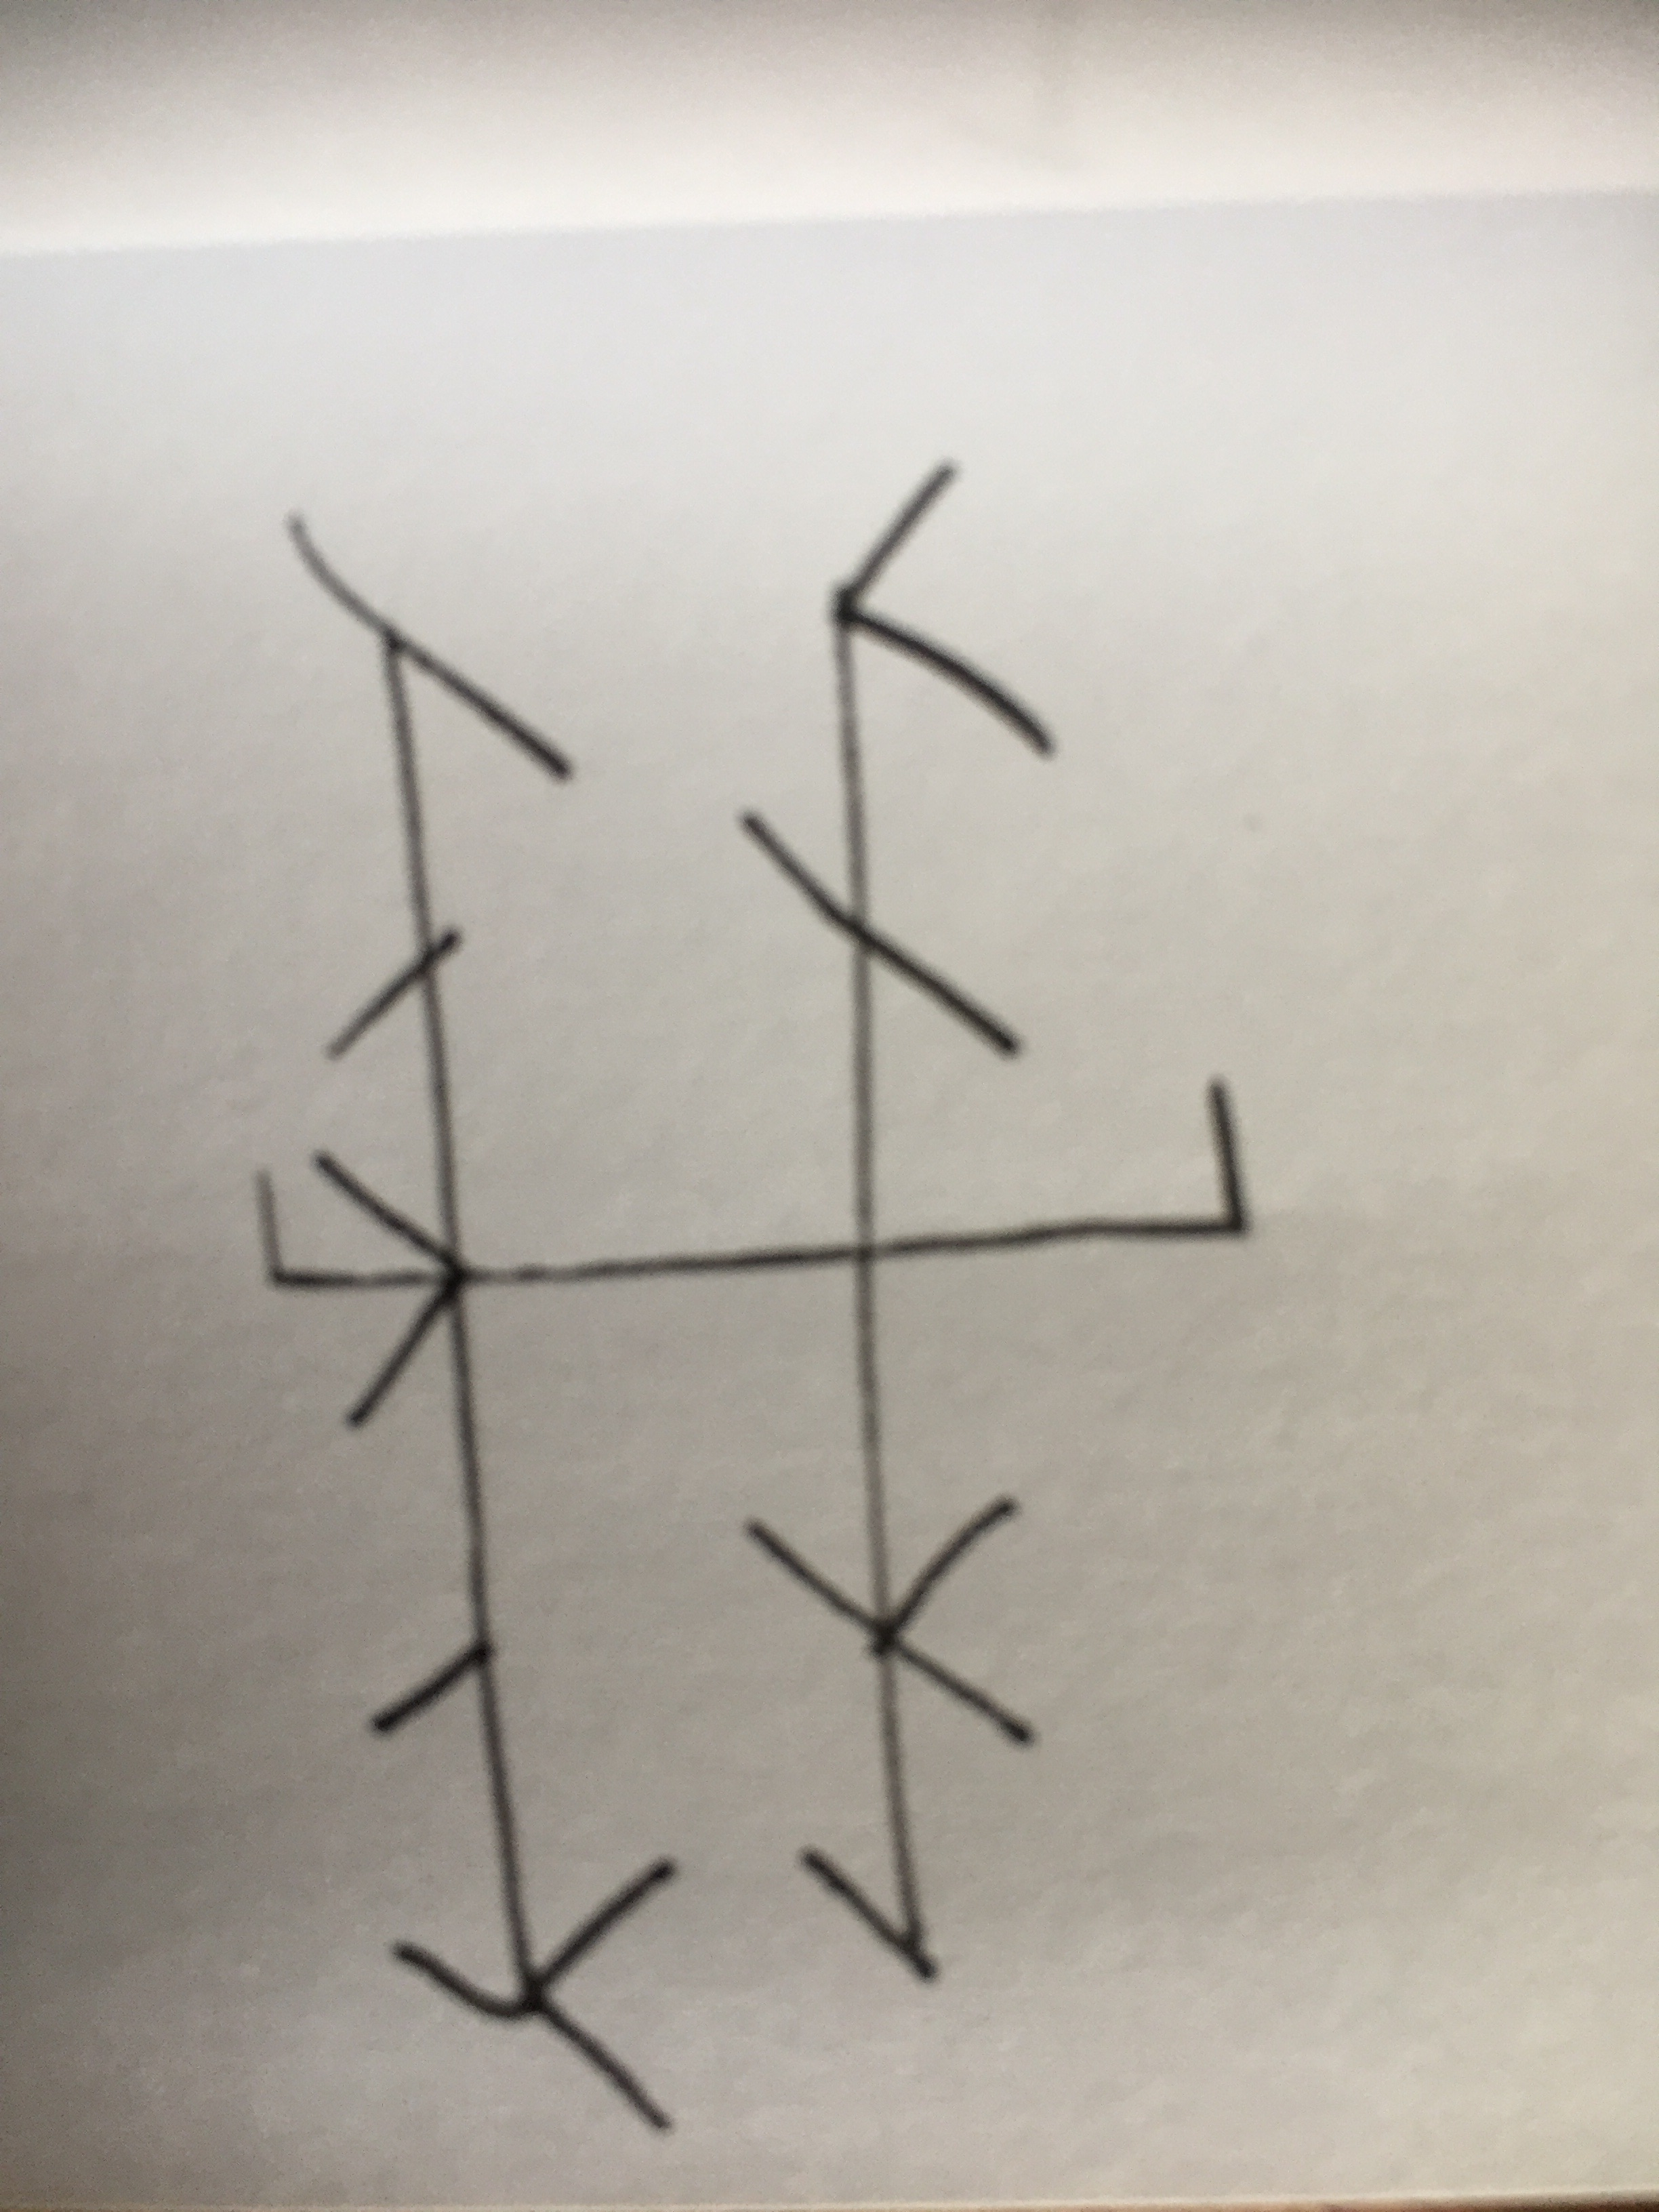Bar: (281, 512, 680, 2137), (732, 462, 1060, 1982)
Barcode: (251, 460, 1255, 2142)
End: (875, 1078, 1251, 1261)
Start: (253, 1169, 319, 1296)
